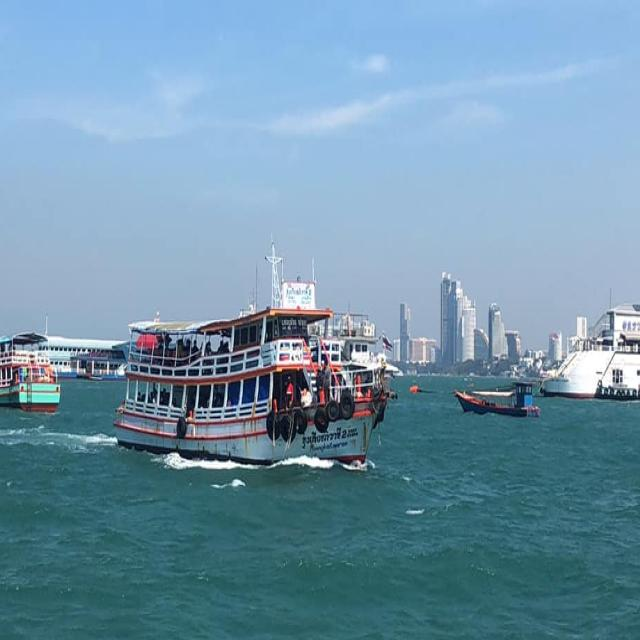fishing boat: (446, 379, 536, 420)
houseboat: (546, 294, 640, 412)
passenger ship: (105, 271, 391, 469), (0, 325, 70, 415)
